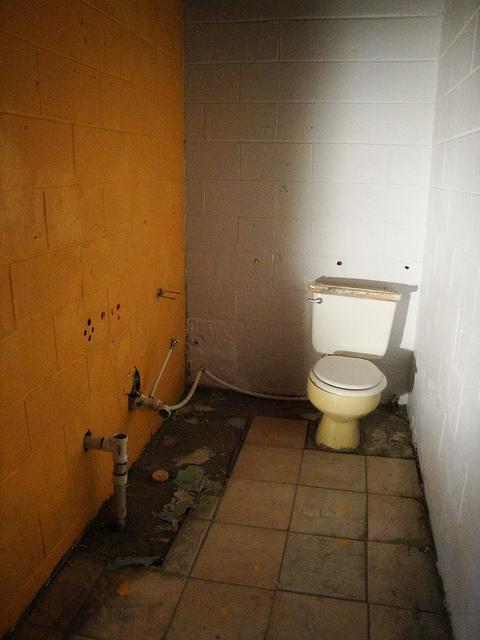Sanitario: (302, 280, 403, 461)
